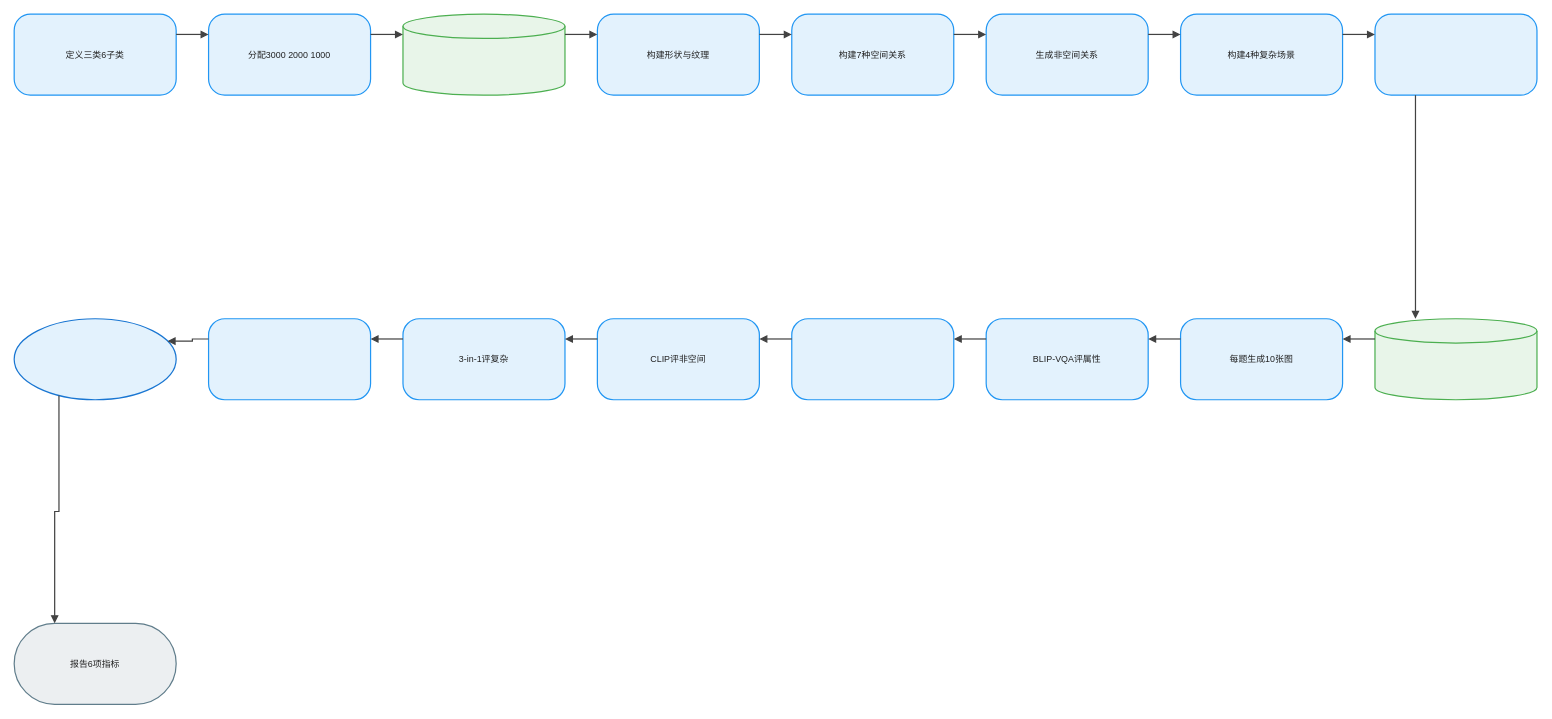
The diagram is 1552 pixels wide and 719 high, and some of its shapes have lost their labels. Here are the shapes that lost their labels. From the top down, the centre of each, then its label:
At (483,54): "汇集颜色提示".
At (1455,54): "平衡并划分".
At (94,359): "人工验证".
At (289,359): "MiniGPT4-CoT".
At (872,359): "UniDet评空间".
At (1455,359): "冻结原始6000条".
